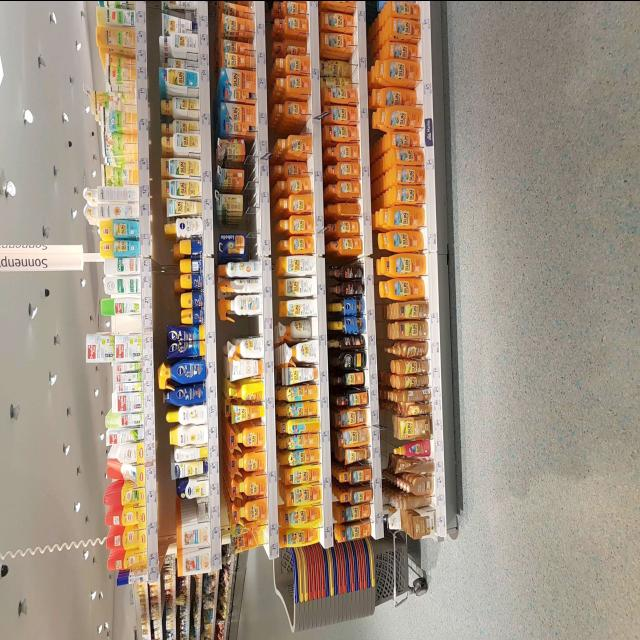empty_space: (224, 317, 256, 335), (220, 212, 258, 226)
